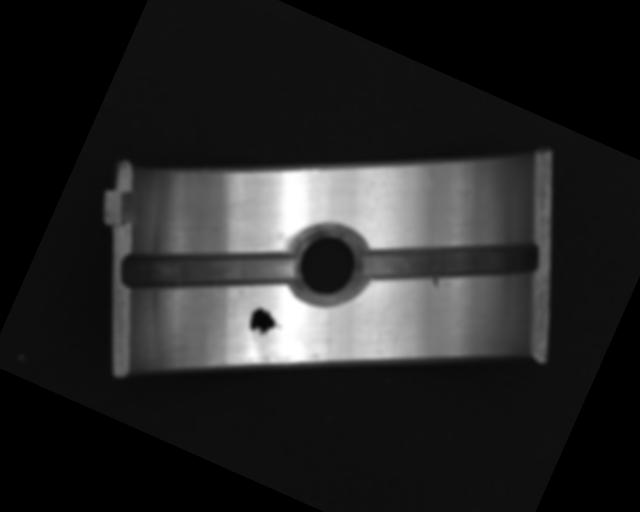blot: (240, 303, 286, 349)
bruise: (428, 275, 442, 289)
gap: (357, 185, 543, 340), (115, 198, 298, 346)
hole: (281, 215, 377, 315)
